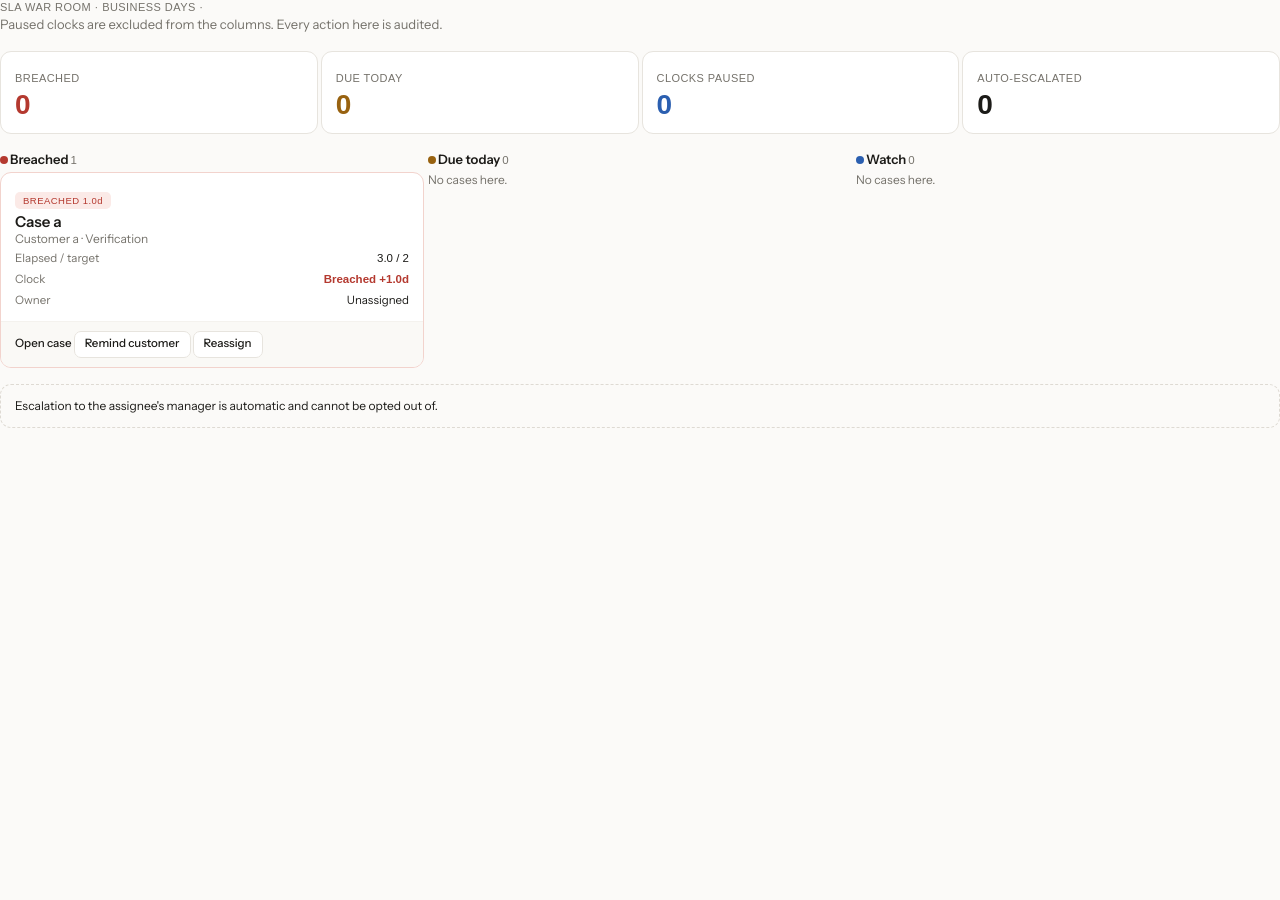
it: SLA war room page › card actions › closing a dialog refetches the exceptions
Click the button "Reassign": (228, 344) [192,331,262,358]
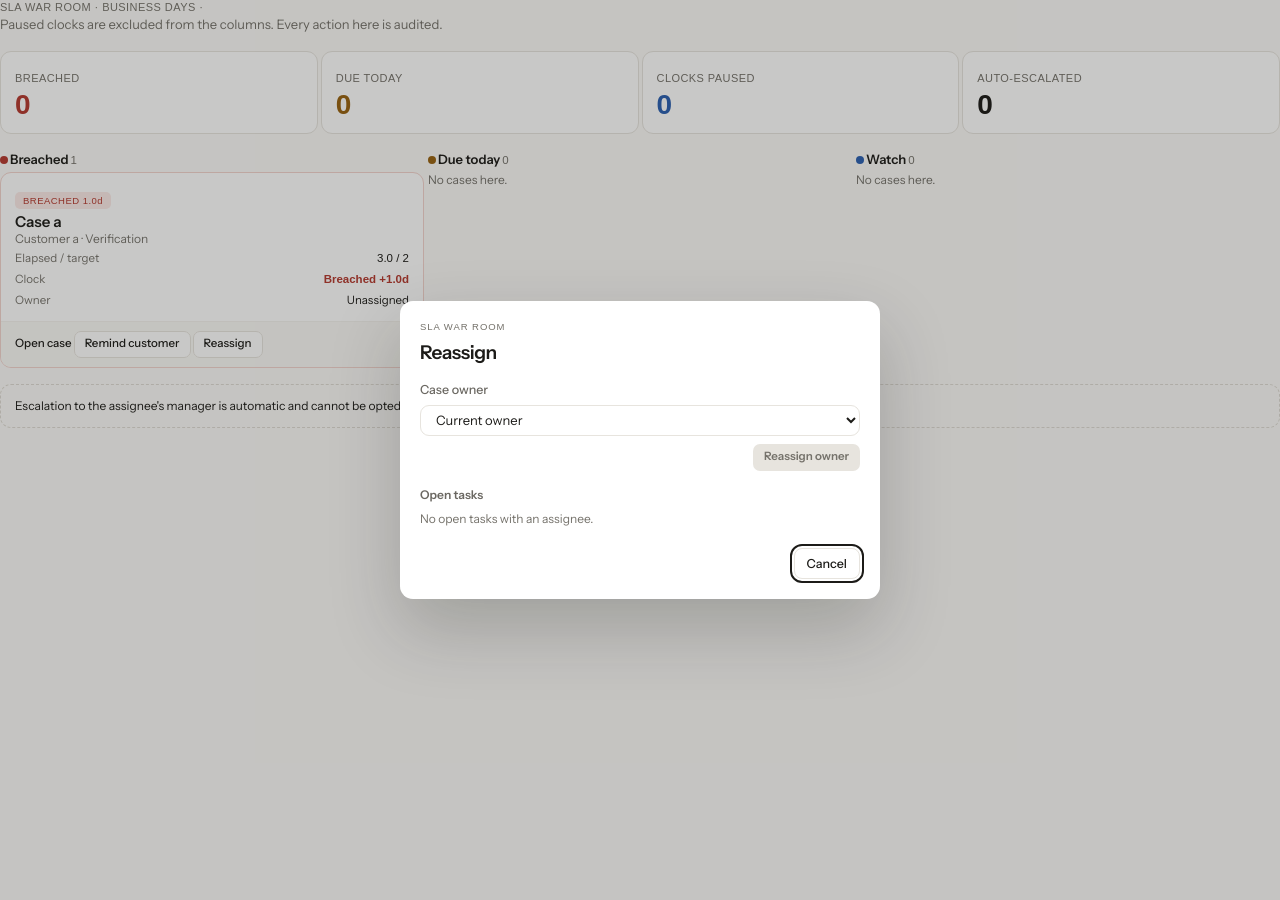
Expected: the dropdown labelled "Case owner" is shown, [420,404,860,436]
Click the button "Cancel": (827, 564) [794,548,860,579]
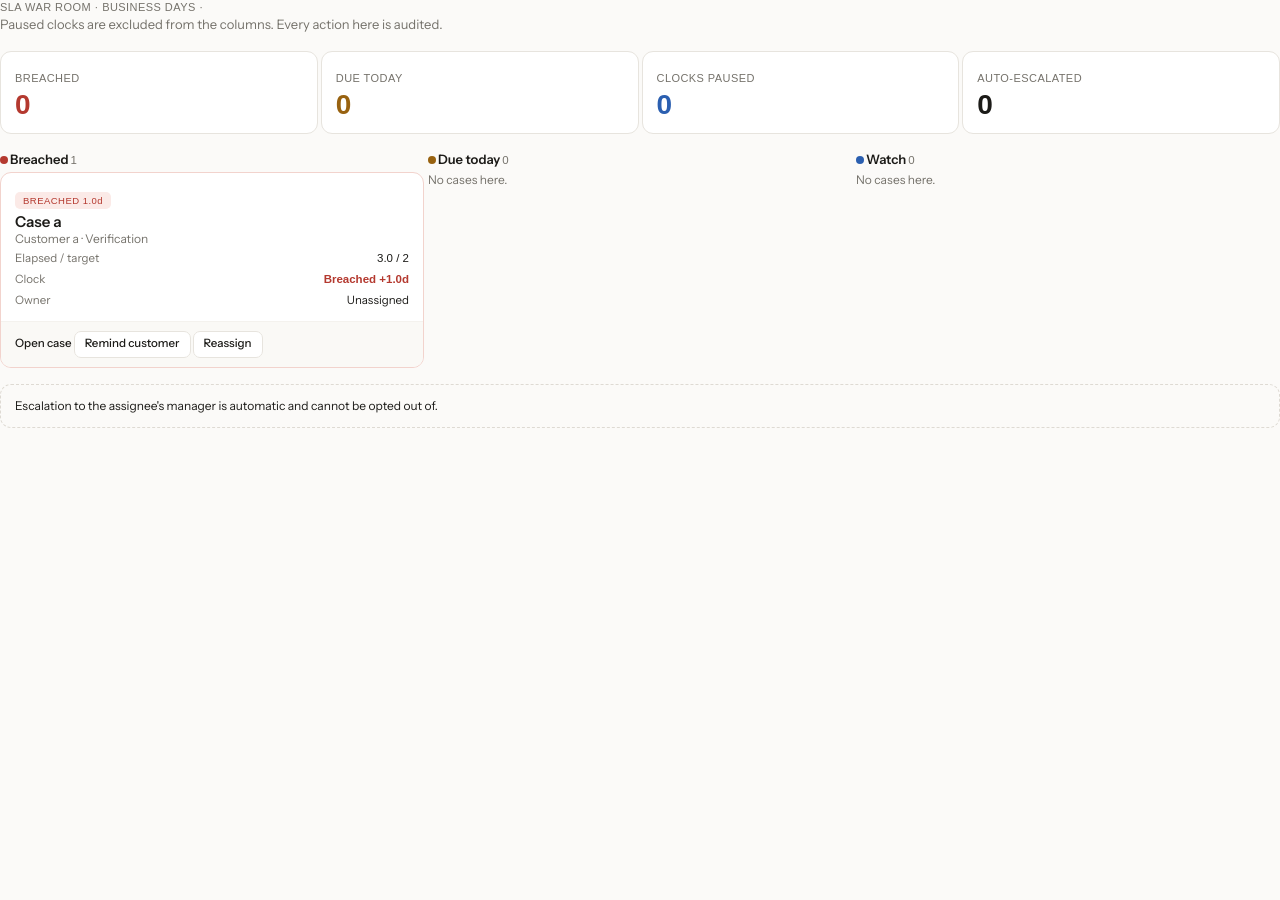
Expected: the dialog is gone
